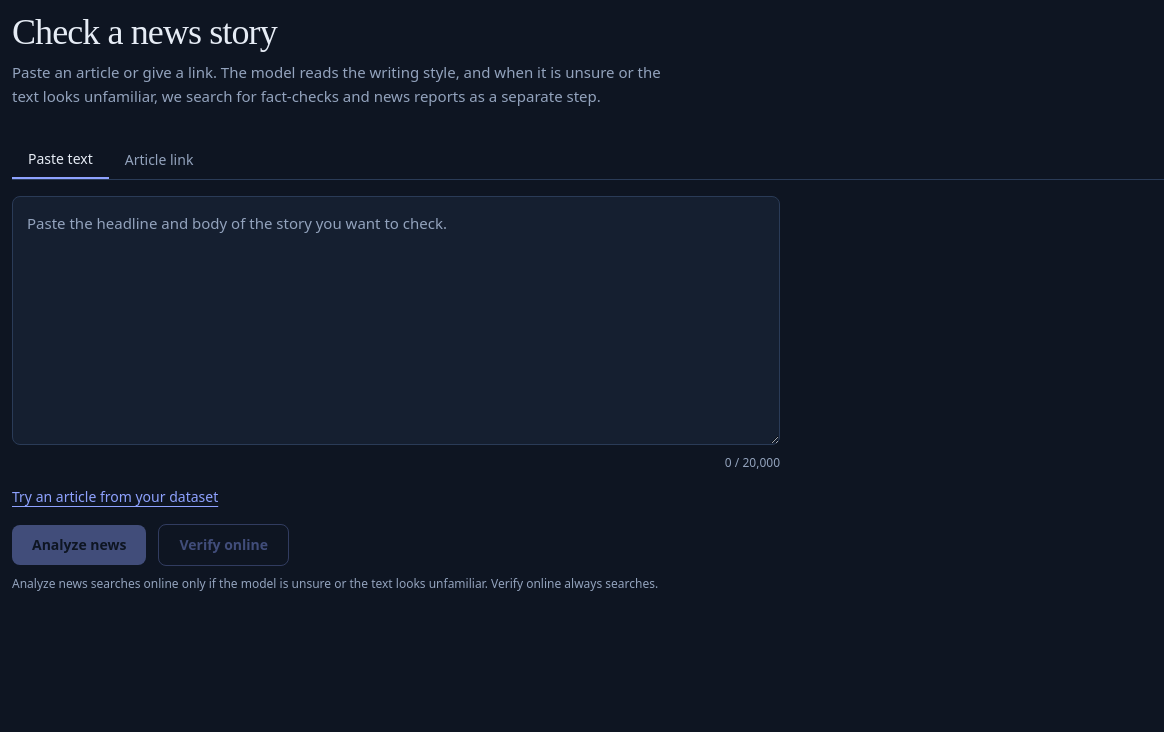
Check page › shows a clear error and no stale result when the API fails
Click the tab "Article link" at point(159, 160), box 109,141 -> 209,179
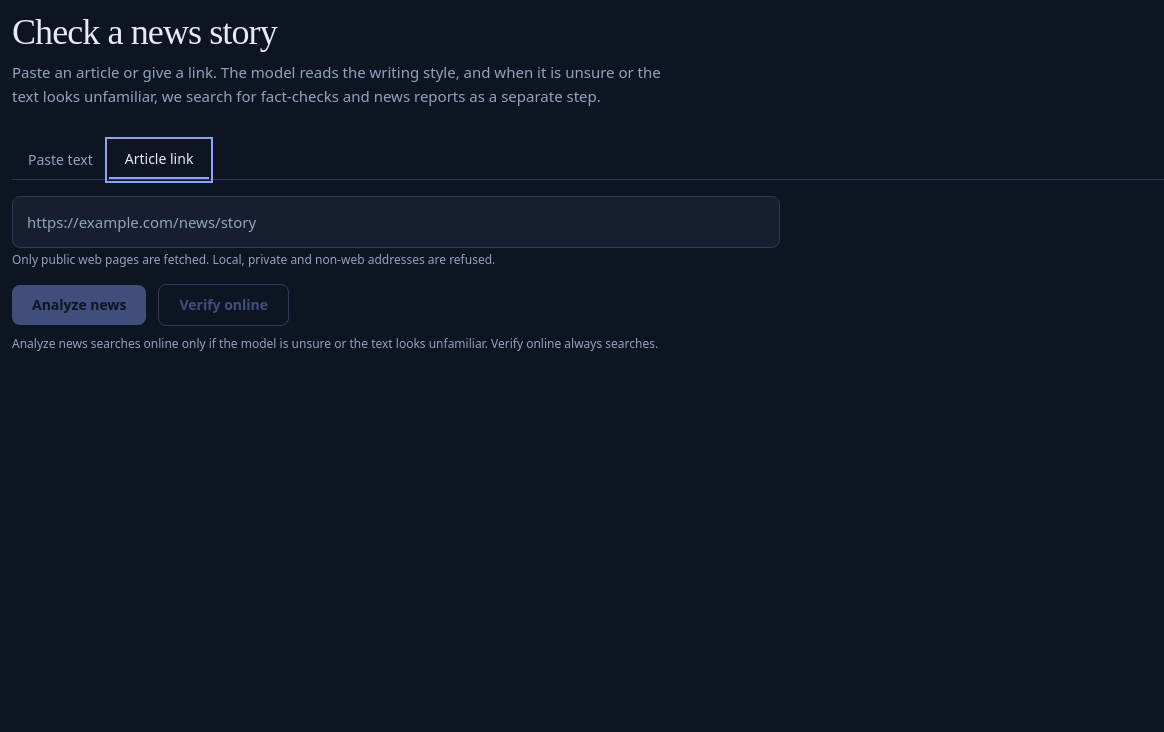
Type "http://localhost/" into the field named "Article link" at point(396, 222), box 12,196 -> 780,248
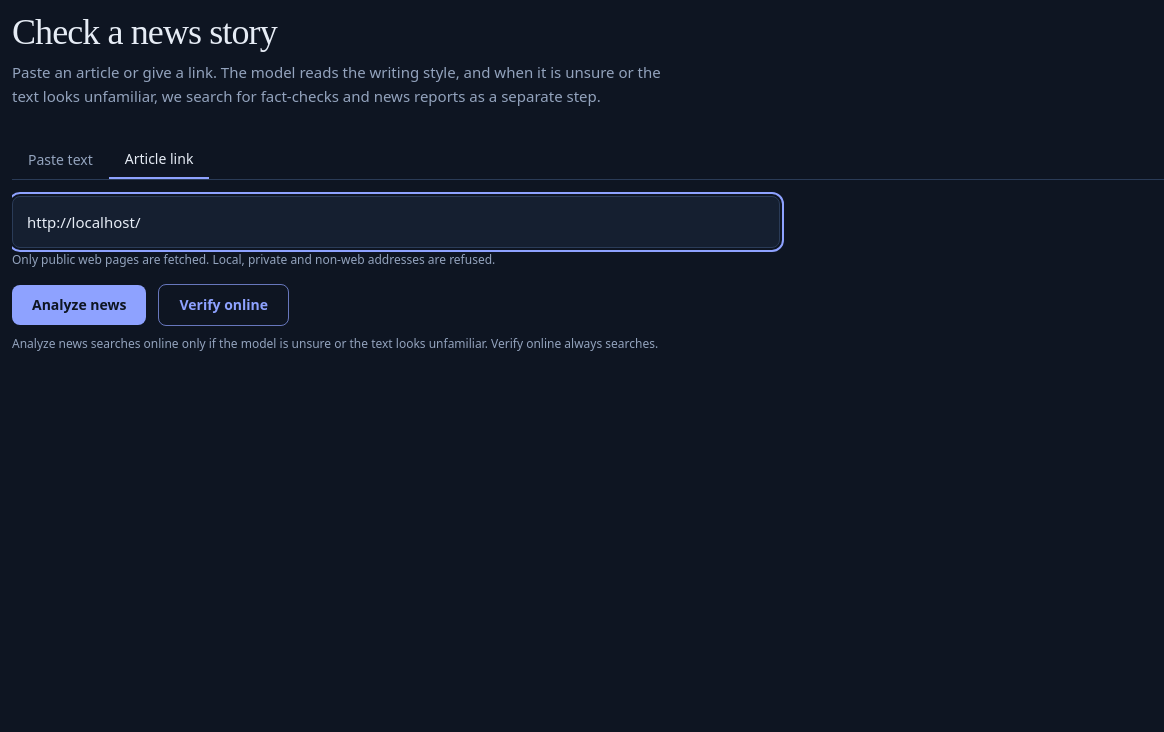
Click the button "Analyze news" at point(79, 305), box 12,285 -> 146,325
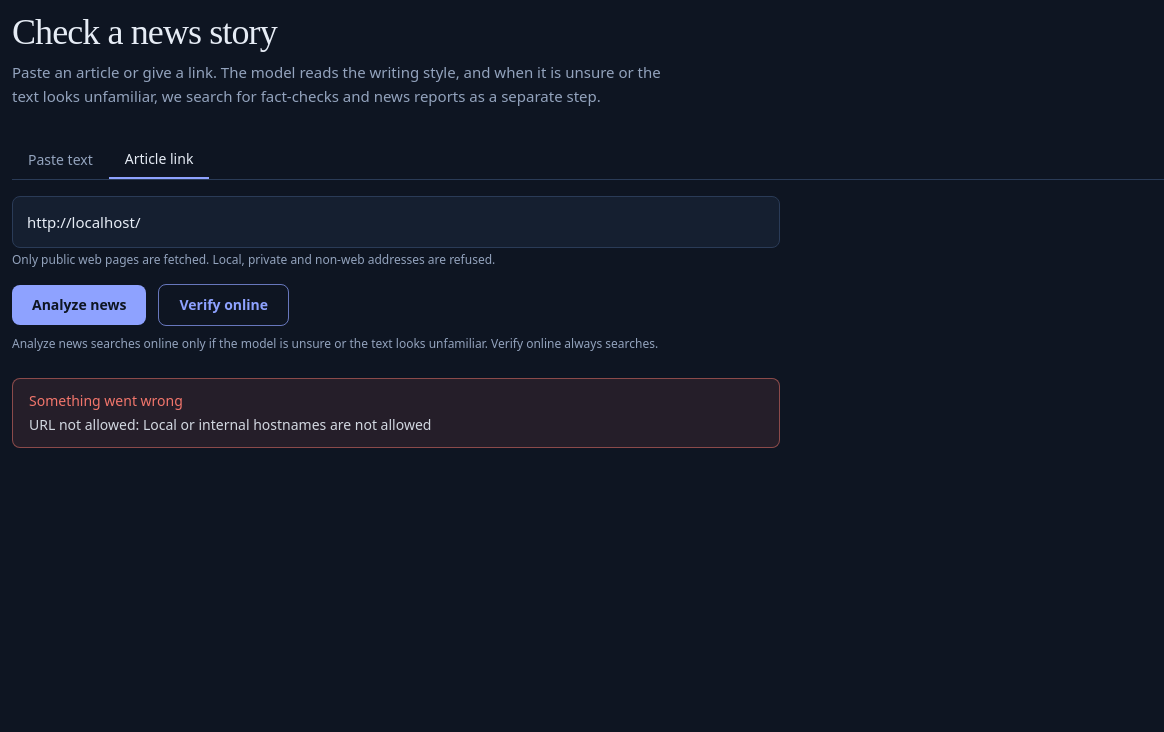
Now the message shows "URL not allowed", box 29,415 -> 431,434
